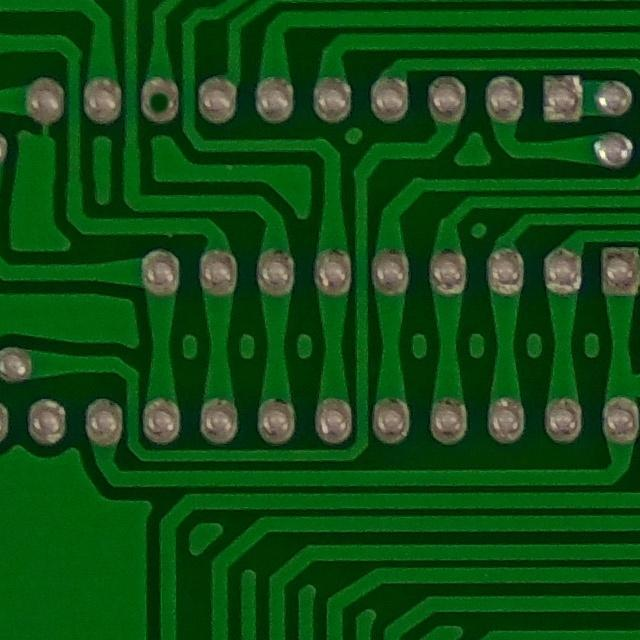missing_hole: (135, 74, 185, 130)
